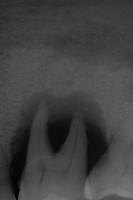Dental Caries: (11, 89, 108, 154)
